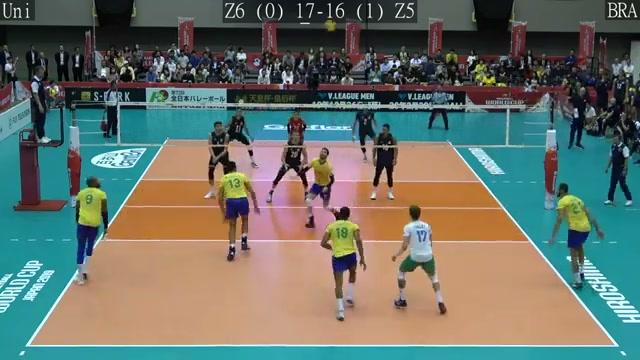ball: (324, 19, 338, 32)
